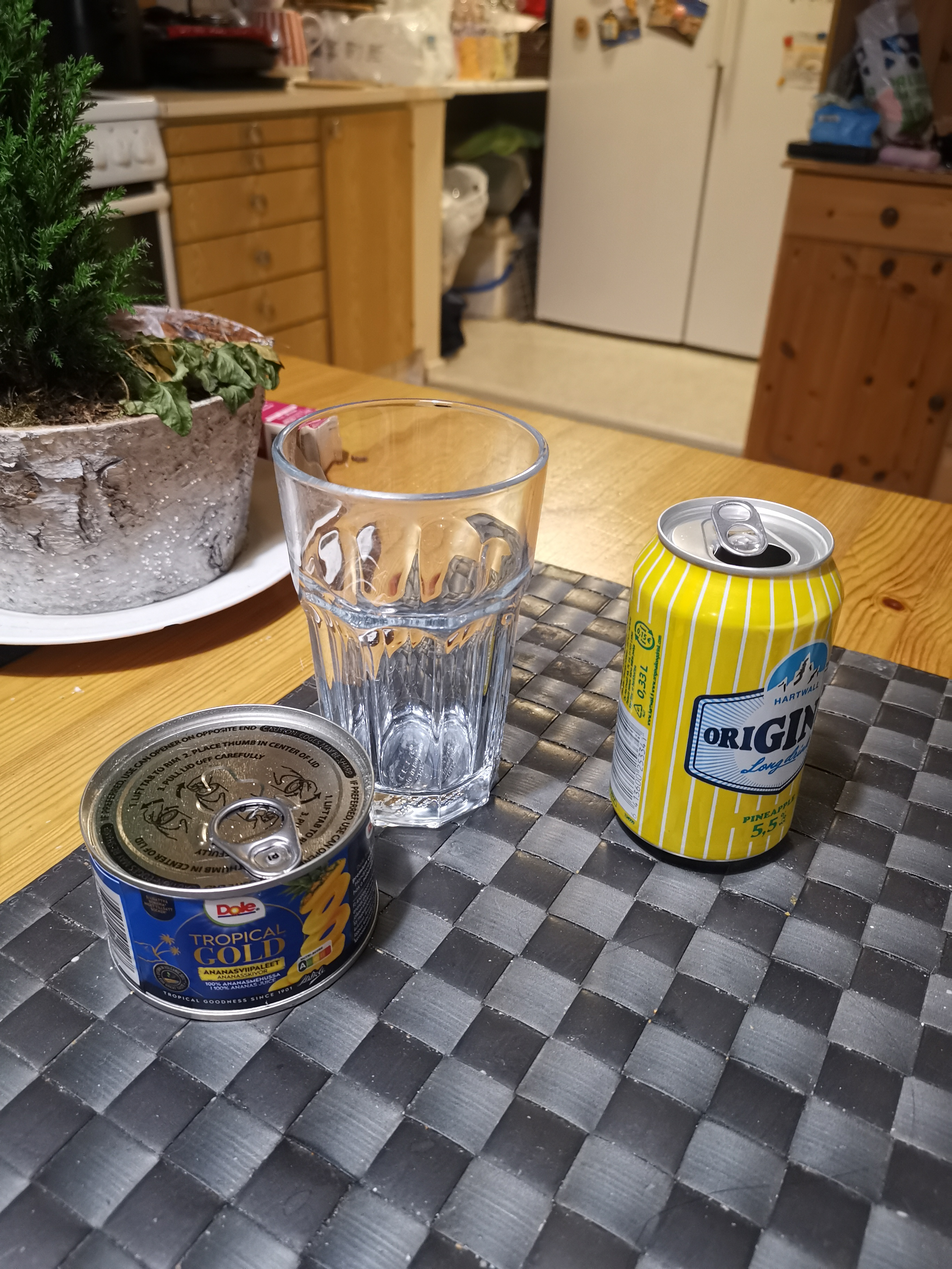Konservburk: (73, 701, 383, 1026)
Pantburk: (608, 493, 848, 868)
